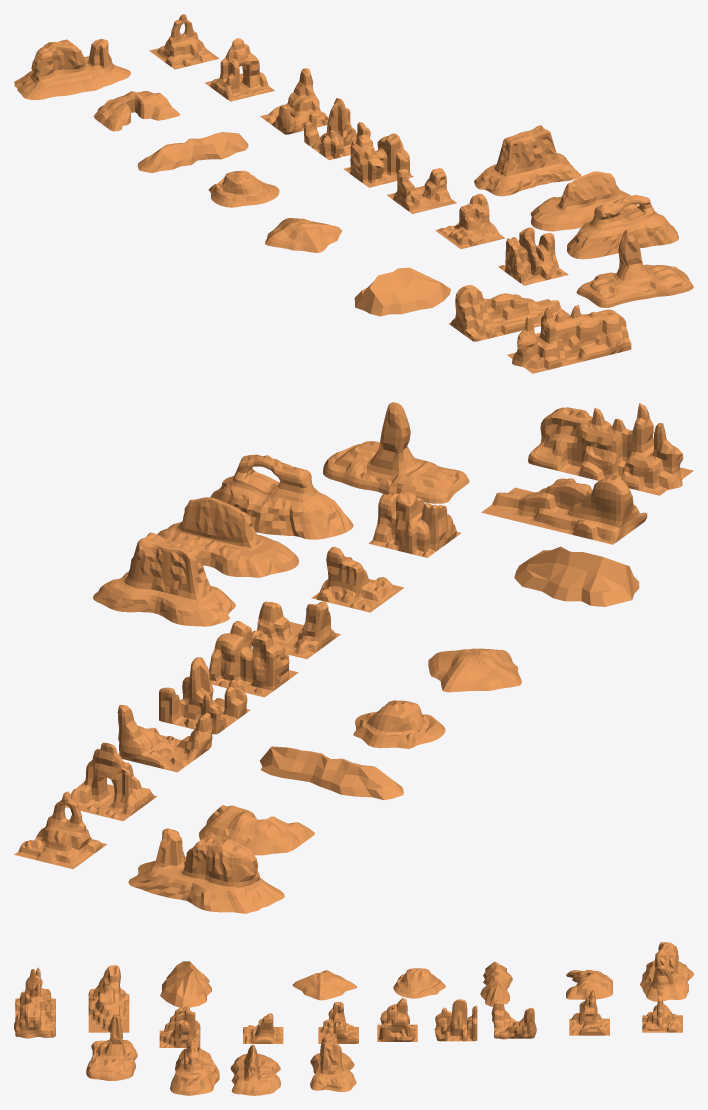
Rendered from desert_elements.fbx.
The picture shows the model from 3 angles, top to bottom: view 1: azimuth 30°, elevation 25°; view 2: azimuth 150°, elevation 25°; view 3: azimuth 270°, elevation 25°; orthographic projection. The views are drawn at different scales.
Visible parts, largest first — view 1: Mountain_desert_008, Plateau_desert_003, Plateau_desert_002, Plateau_desert_004, Plateau_desert_001, Mountain_desert_007, Plateau_desert_005, Hill_desert_002, Mountain_desert_003, Mountain_desert_002, Hill_desert_003, Mountain_desert_010 (+8 smaller); view 2: Mountain_desert_008, Plateau_desert_003, Plateau_desert_002, Plateau_desert_004, Mountain_desert_007, Plateau_desert_001, Plateau_desert_005, Hill_desert_002, Mountain_desert_002, Hill_desert_003, Mountain_desert_003, Mountain_desert_010 (+8 smaller); view 3: Mountain_desert_008, Plateau_desert_003, Plateau_desert_001, Mountain_desert_007, Plateau_desert_004, Plateau_desert_002, Plateau_desert_005, Hill_desert_002, Mountain_desert_005, Mountain_desert_002, Mountain_desert_003, Mountain_desert_006 (+8 smaller).
Part boxes in pixels (x1,y1,x2,y2): Mountain_desert_008: [507, 305, 631, 373]; Plateau_desert_003: [14, 38, 130, 99]; Plateau_desert_002: [474, 125, 581, 196]; Plateau_desert_004: [567, 195, 678, 259]; Plateau_desert_001: [576, 227, 693, 307]; Mountain_desert_007: [448, 285, 570, 341]; Plateau_desert_005: [530, 171, 638, 231]; Hill_desert_002: [354, 267, 450, 316]; Mountain_desert_003: [498, 227, 568, 285]; Mountain_desert_002: [343, 133, 413, 187]; Hill_desert_003: [137, 132, 248, 172]; Mountain_desert_010: [204, 38, 274, 101]; Mountain_desert_008: [528, 403, 693, 495]; Plateau_desert_003: [128, 828, 284, 913]; Plateau_desert_002: [93, 532, 235, 626]; Plateau_desert_004: [210, 454, 353, 539]; Mountain_desert_007: [481, 475, 647, 544]; Plateau_desert_001: [323, 402, 469, 503]; Plateau_desert_005: [157, 497, 298, 577]; Hill_desert_002: [514, 546, 639, 606]; Mountain_desert_002: [209, 621, 298, 697]; Hill_desert_003: [260, 746, 403, 800]; Mountain_desert_003: [368, 491, 460, 557]; Mountain_desert_010: [65, 742, 156, 821]; Mountain_desert_008: [14, 967, 55, 1038]; Plateau_desert_003: [640, 942, 693, 1001]; Plateau_desert_001: [86, 1014, 137, 1080]; Mountain_desert_007: [88, 965, 129, 1032]; Plateau_desert_004: [170, 1038, 219, 1095]; Plateau_desert_002: [310, 1033, 356, 1092]; Plateau_desert_005: [230, 1045, 280, 1095]; Hill_desert_002: [160, 961, 211, 1008]; Mountain_desert_005: [434, 999, 477, 1041]; Mountain_desert_002: [377, 998, 417, 1041]; Mountain_desert_003: [159, 1005, 200, 1047]; Mountain_desert_006: [491, 1000, 536, 1039].
Size of the model in its own units: 1809 by 288 by 3859.
